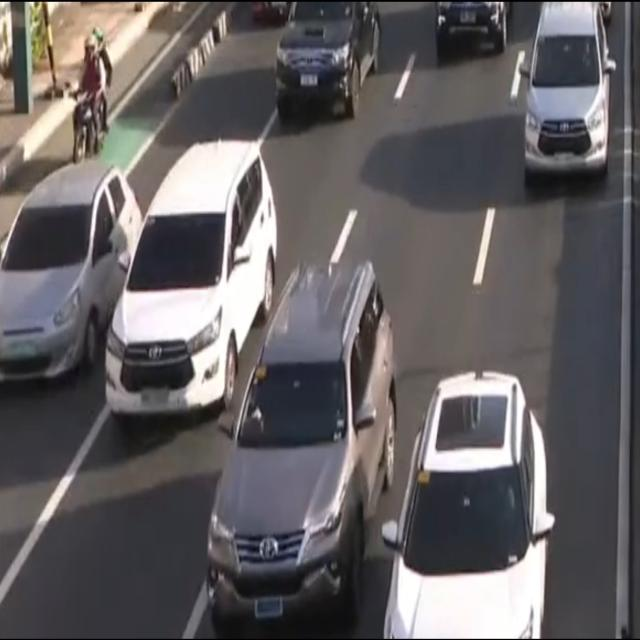Motorcycle: (64, 26, 111, 182)
SUV: (205, 262, 398, 640), (104, 142, 279, 419), (383, 366, 556, 640), (0, 158, 144, 384), (525, 2, 611, 182), (273, 0, 383, 123)
